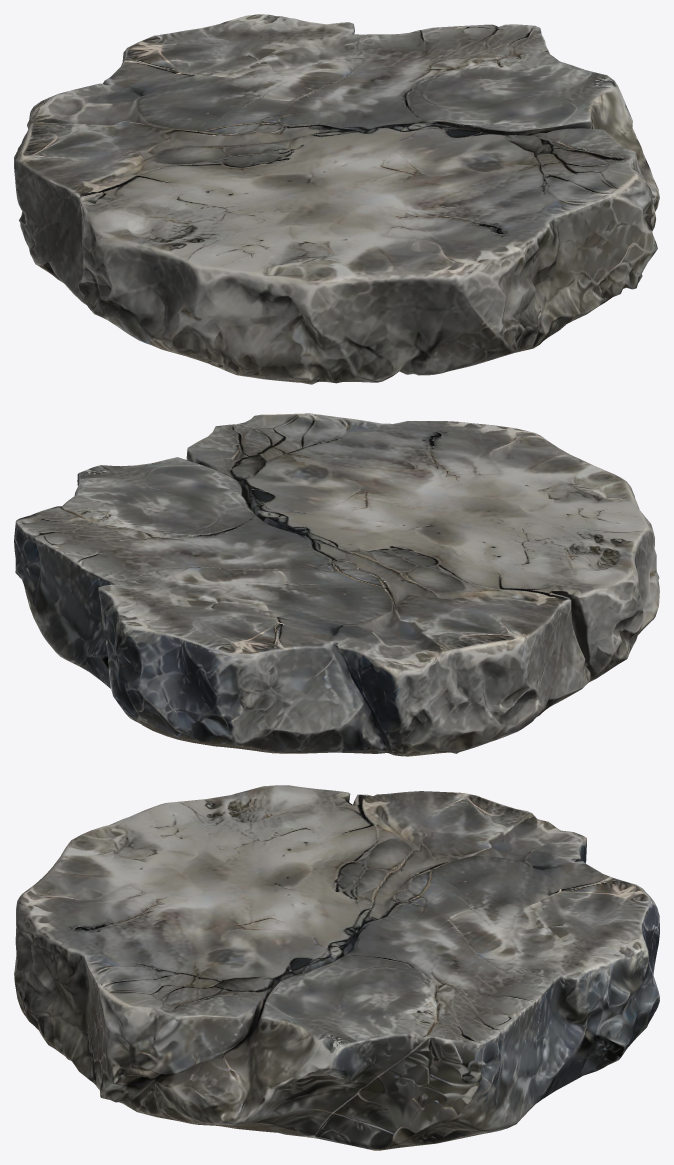
File: rockPlatafform.fbx
3 renders of one model, top to bottom at view 1: azimuth 30°, elevation 25°; view 2: azimuth 150°, elevation 25°; view 3: azimuth 270°, elevation 25°, orthographic. The views are drawn at different scales.
Visible parts, largest first — view 1: tripo_node_570ee1c2; view 2: tripo_node_570ee1c2; view 3: tripo_node_570ee1c2.
Boxes of the visible parts, bbox=[...] form: tripo_node_570ee1c2: bbox=[14, 14, 659, 384]; tripo_node_570ee1c2: bbox=[14, 413, 659, 756]; tripo_node_570ee1c2: bbox=[14, 785, 659, 1150].
Size of the model in its own units: 0.9848 by 0.2161 by 1.
1 material, 1 textured.
